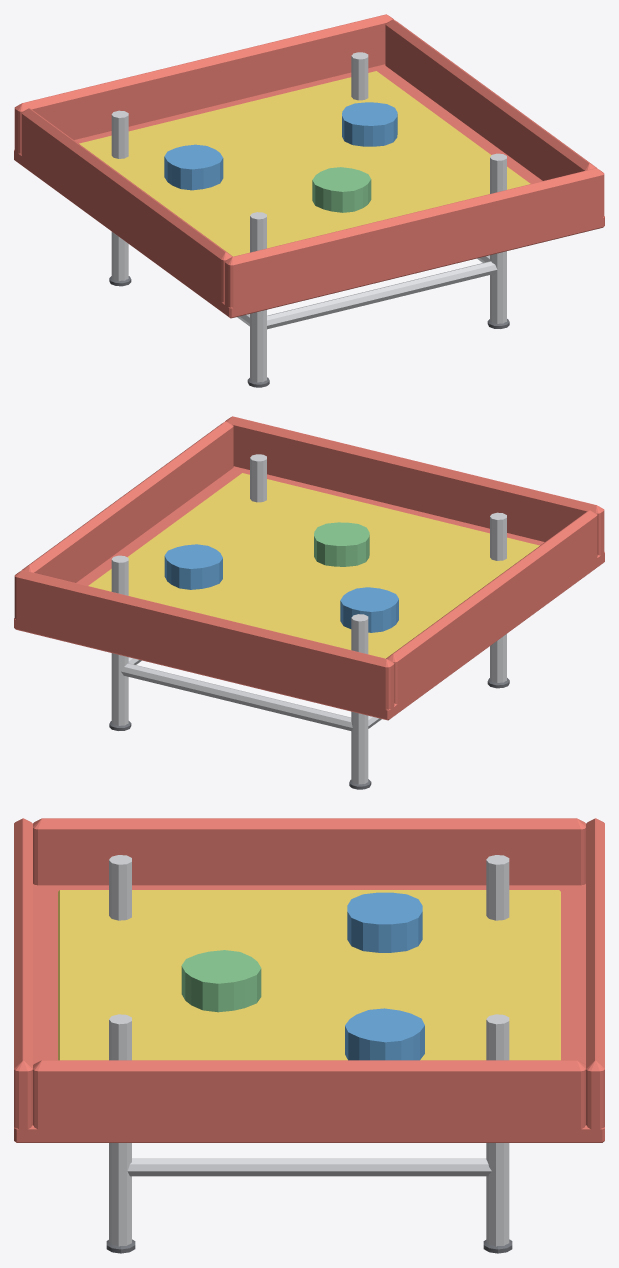
File: nursery-and-primary-classroom-tuff-tray-on-stand-59992b3b__35027.glb
3 renders of one model, top to bottom at view 1: azimuth 30°, elevation 25°; view 2: azimuth 150°, elevation 25°; view 3: azimuth 270°, elevation 25°, orthographic. The views are drawn at different scales.
Parts seen in each view (by area): view 1: tuff-tray-on-stand; view 2: tuff-tray-on-stand; view 3: tuff-tray-on-stand.
Boxes of the visible parts, x1,y1,x2,y2 form: tuff-tray-on-stand: (14, 14, 604, 387); tuff-tray-on-stand: (14, 416, 604, 789); tuff-tray-on-stand: (14, 818, 604, 1253).
Size of the model in its own units: 0.94 by 0.4 by 0.94.
